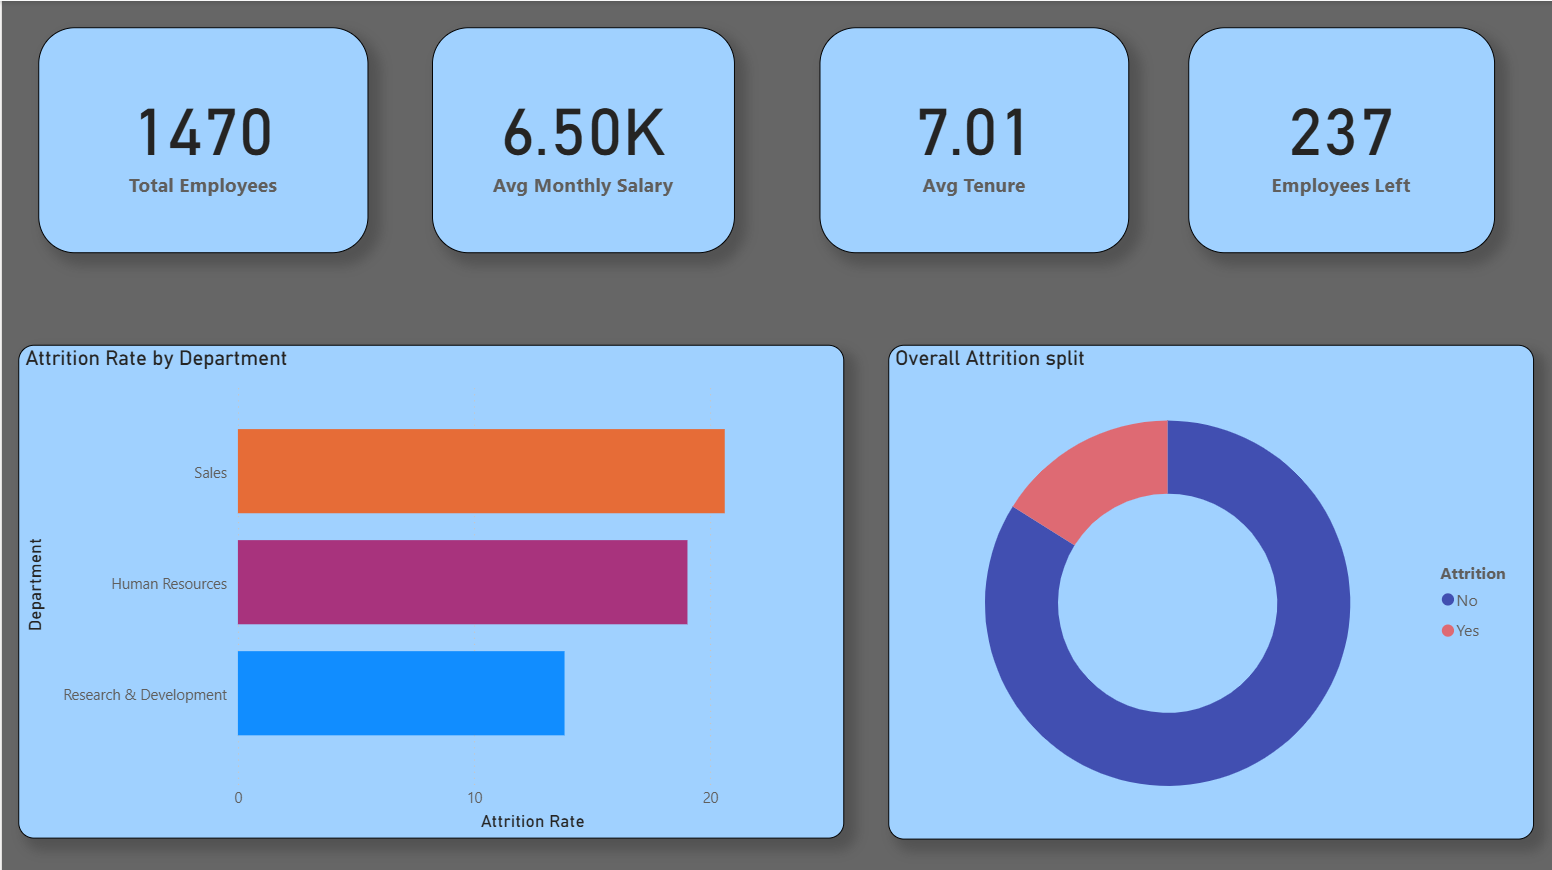

Layout of this report page (visuals, bound fields, positions):
{"tool":"powerbi","page":{"name":"Overview ","canvas":[1280,720],"ordinal":0},"visuals":[{"type":"card","fields":{"Values":["WA_Fn-UseC_-HR-Employee-Attrition.Total Employees"]},"box":[95.3,62.8,238.4,160.5],"z":0},{"type":"card","fields":{"Values":["WA_Fn-UseC_-HR-Employee-Attrition.Avg Monthly Salary"]},"box":[401.2,62.8,238.4,161.6],"z":1000},{"type":"card","fields":{"Values":["WA_Fn-UseC_-HR-Employee-Attrition.Avg Tenure"]},"box":[700,62.8,238.4,160.5],"z":2000},{"type":"card","fields":{"Values":["WA_Fn-UseC_-HR-Employee-Attrition.Employees Left"]},"box":[1012.8,64,238.4,160.5],"z":3000},{"type":"clusteredBarChart","fields":{"Category":["WA_Fn-UseC_-HR-Employee-Attrition.Department"],"Y":["WA_Fn-UseC_-HR-Employee-Attrition.Attrition Rate"]},"box":[43,282.6,677.9,405.8],"z":4000},{"type":"donutChart","title":"Overall Attrition split","fields":{"Category":["WA_Fn-UseC_-HR-Employee-Attrition.Attrition"],"Y":["WA_Fn-UseC_-HR-Employee-Attrition.Total Employees"]},"box":[747.7,282.6,530.2,407],"z":5000}]}

Visuals, with their boxes in screenshot pixels (x1, y1, x2, y2), scaled from the page's 1280x720 canvas onto the 1552x870 screenshot:
card - WA_Fn-UseC_-HR-Employee-Attrition.Total Employees: Rect(116, 76, 405, 270)
card - WA_Fn-UseC_-HR-Employee-Attrition.Avg Monthly Salary: Rect(486, 76, 776, 271)
card - WA_Fn-UseC_-HR-Employee-Attrition.Avg Tenure: Rect(849, 76, 1138, 270)
card - WA_Fn-UseC_-HR-Employee-Attrition.Employees Left: Rect(1228, 77, 1517, 271)
clusteredBarChart - WA_Fn-UseC_-HR-Employee-Attrition.Department x WA_Fn-UseC_-HR-Employee-Attrition.Attrition Rate: Rect(52, 341, 874, 832)
"Overall Attrition split" donutChart: Rect(907, 341, 1549, 833)
